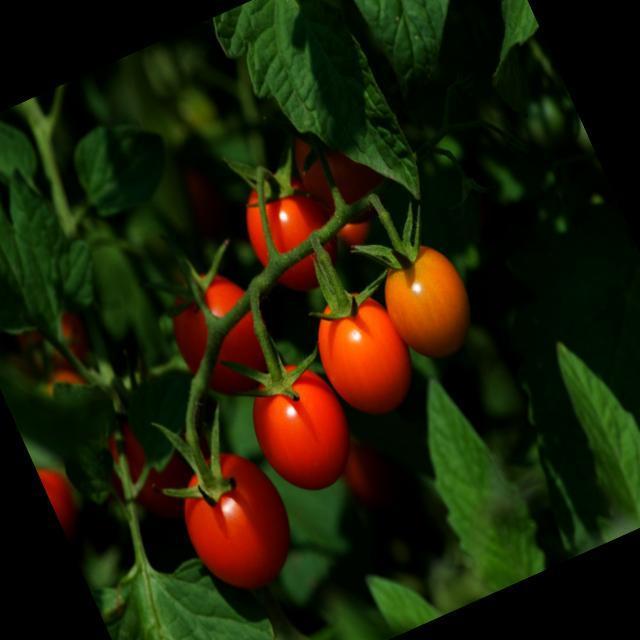Tomato healthy leaf: (217, 0, 415, 189), (428, 395, 547, 598), (557, 345, 640, 526), (91, 560, 275, 640), (0, 188, 97, 334), (73, 124, 168, 222), (348, 0, 446, 68)
